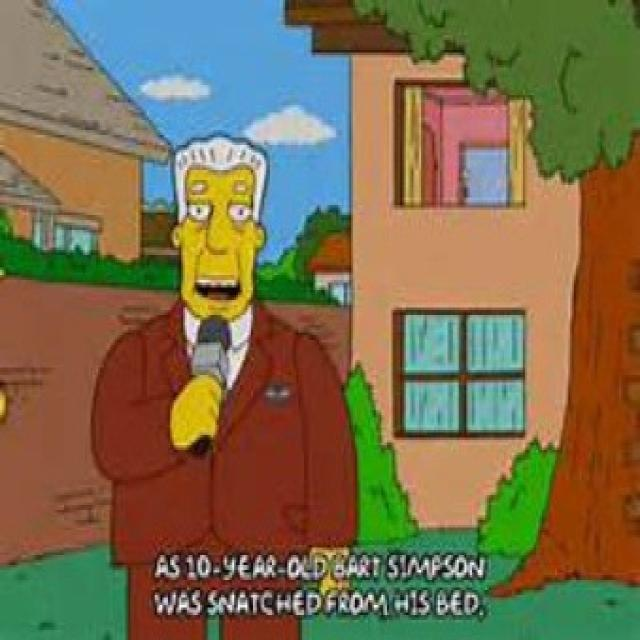Kent Brockman: (169, 134, 269, 326)
